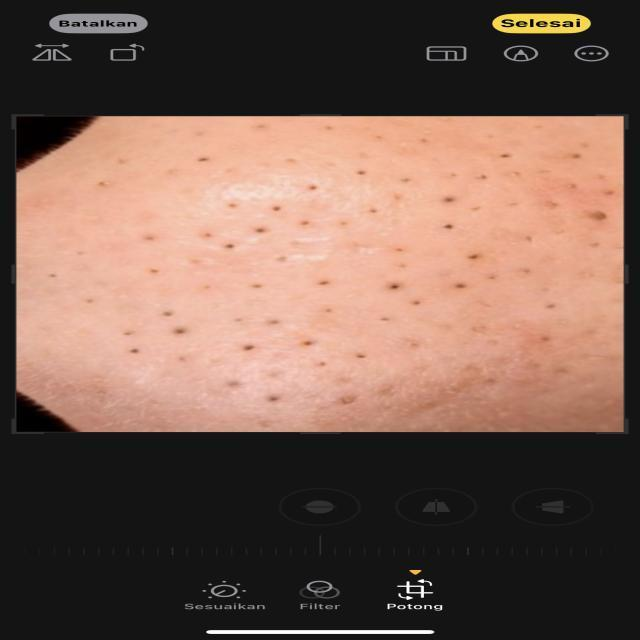blackhead: (65, 137, 592, 433)
